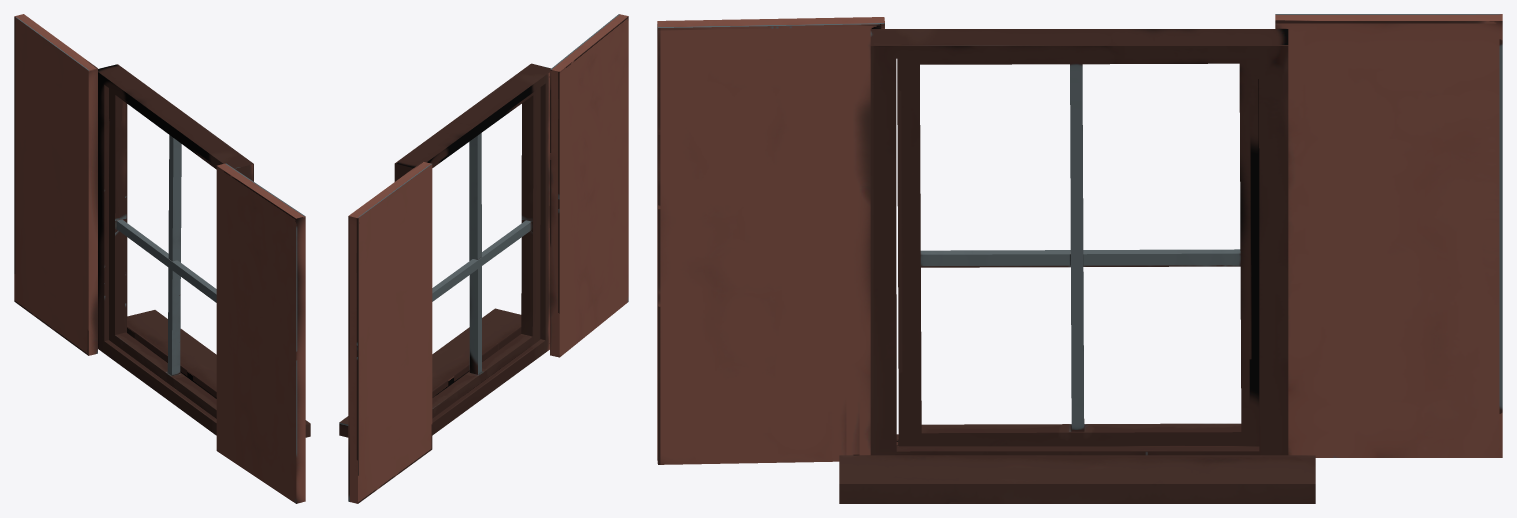
The model's file is window.obj.
3 renders of one model, left to right at view 1: azimuth 30°, elevation 25°; view 2: azimuth 150°, elevation 25°; view 3: azimuth 270°, elevation 25°, orthographic. The views are drawn at different scales.
Visible parts, largest first — view 1: Window; view 2: Window; view 3: Window.
Boxes of the visible parts, x1,y1,x2,y2 form: Window: [14, 14, 310, 503]; Window: [339, 14, 628, 503]; Window: [657, 14, 1502, 503].
Size of the model in its own units: 0.9142 by 3.15 by 5.48.
